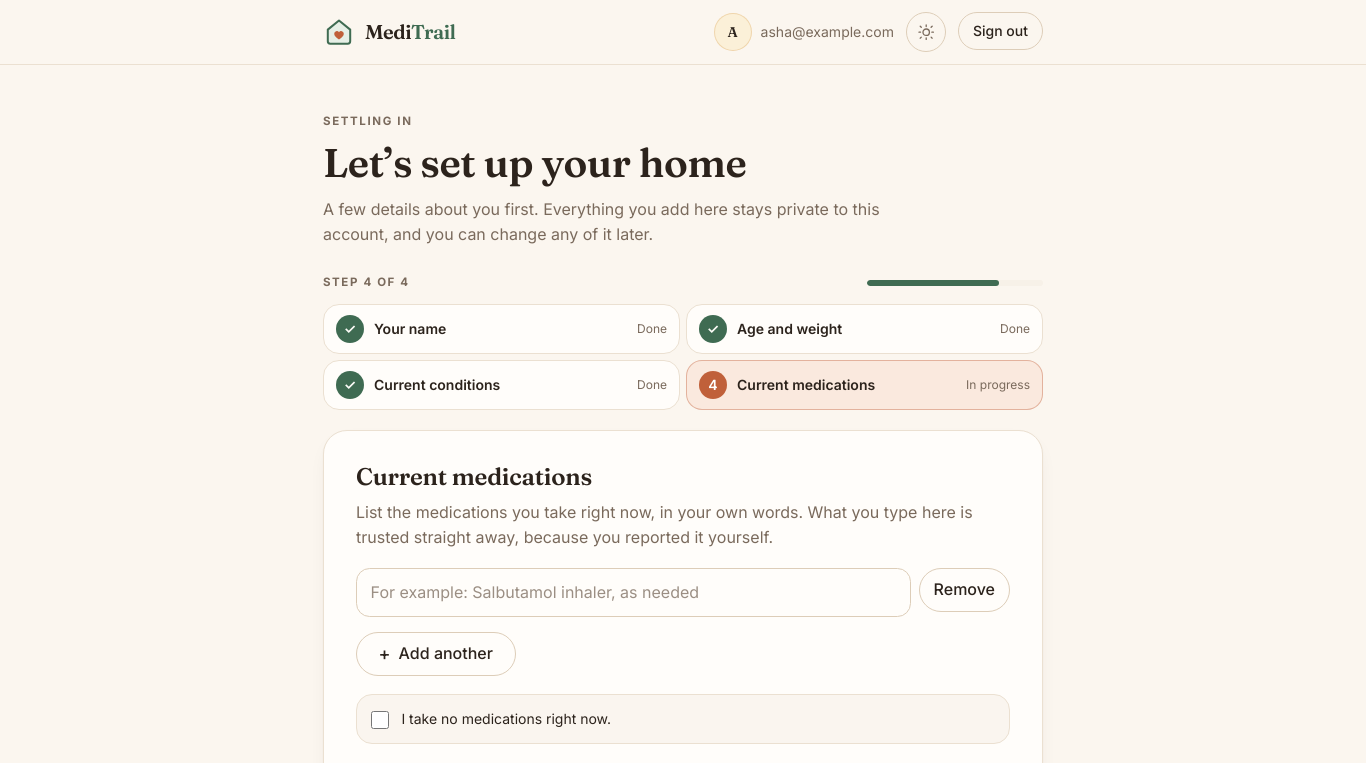
Scenario: OnboardingWizard › redirects to Upload as soon as the final onboarding step is saved
Check: the heading "Current medications" is shown, box [356,462,592,491]
Step 1. Click the checkbox labelled "I take no medications right now." → (380, 720), box [371,711,389,729]
(page scrolled)
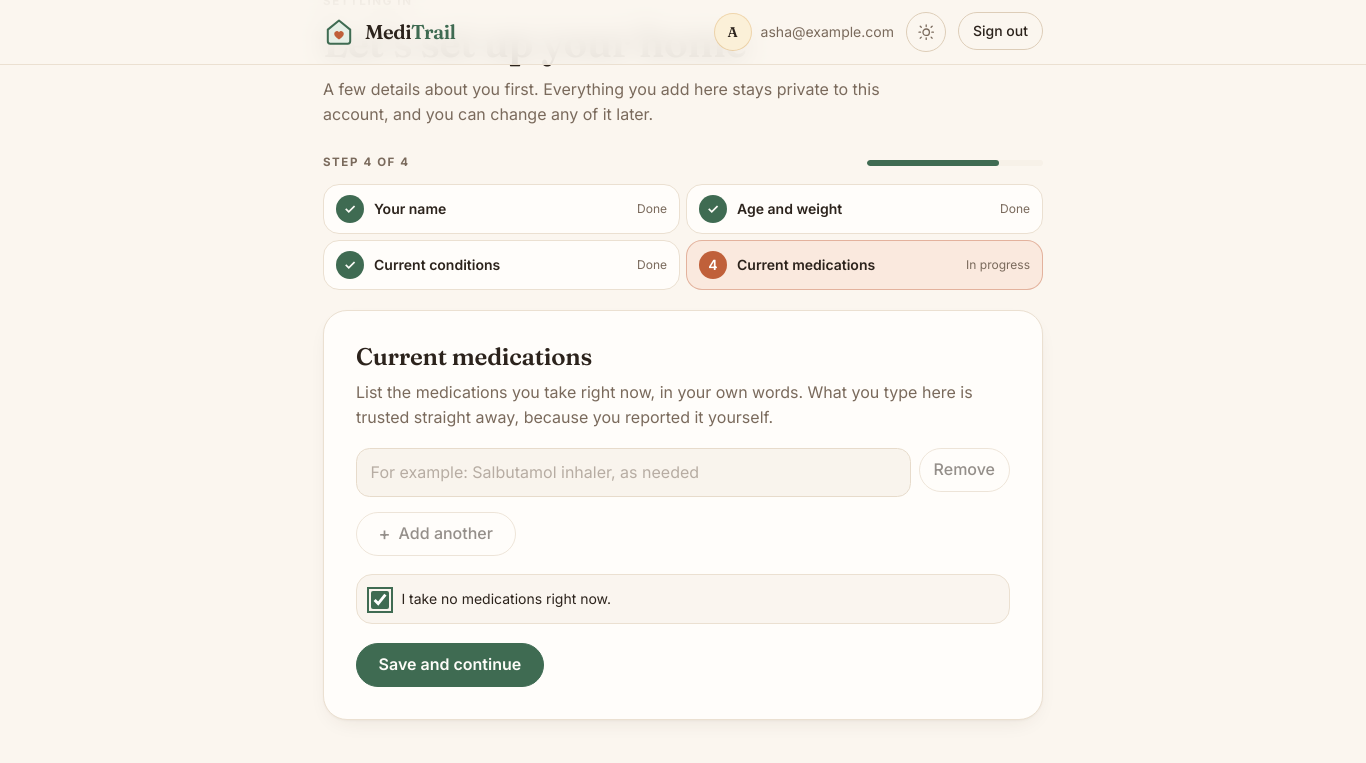
Step 2. Click the button "Save and continue" → (450, 665), box [356,643,544,687]
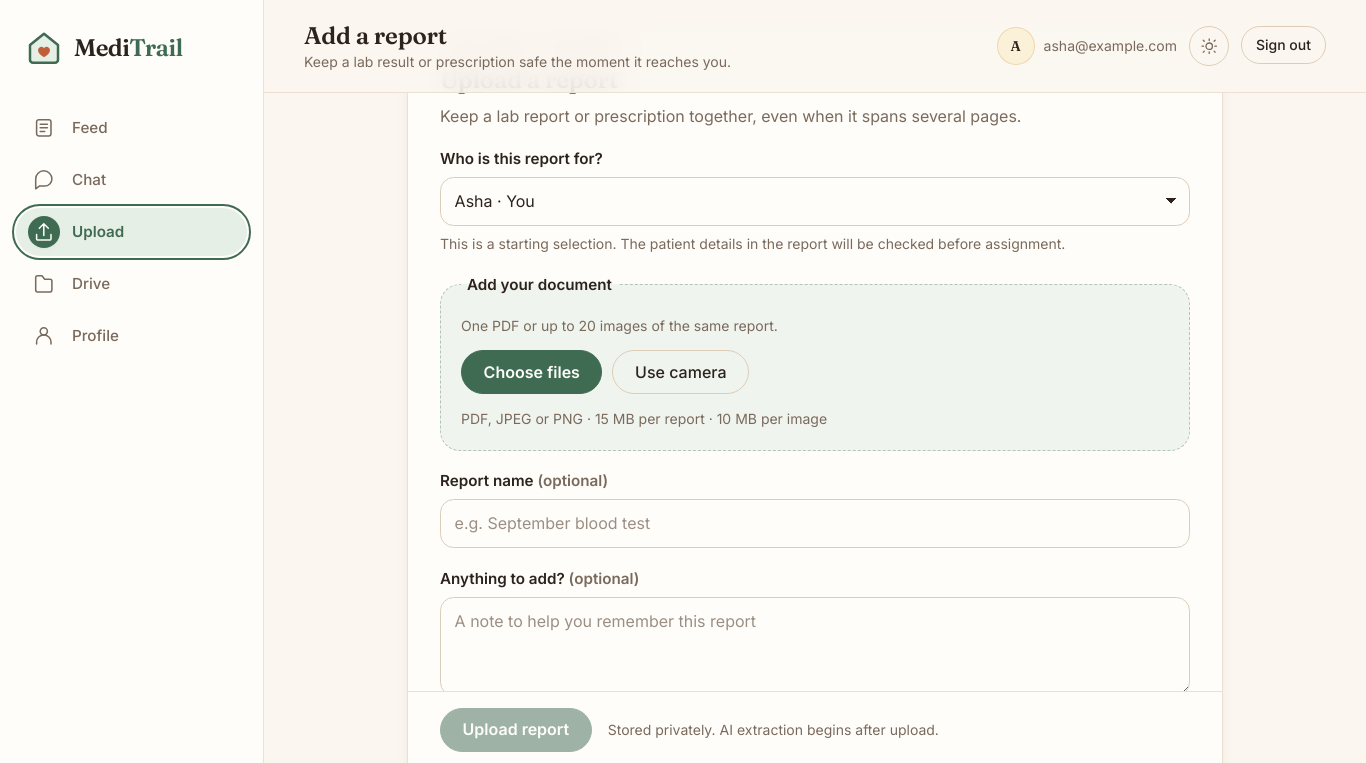
Check: the heading "Upload a report" is shown, box [440,65,618,94]
